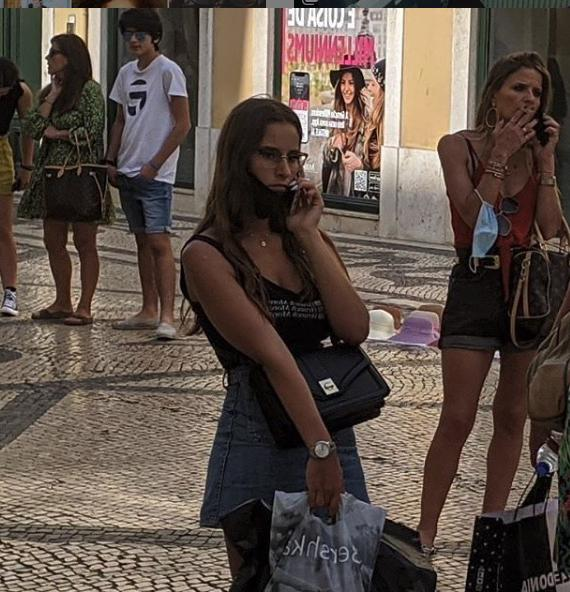mask_weared_incorrect: (245, 139, 304, 213)
without_mask: (501, 74, 542, 122), (119, 30, 159, 60), (45, 47, 62, 77), (367, 76, 382, 104), (340, 76, 354, 104)
